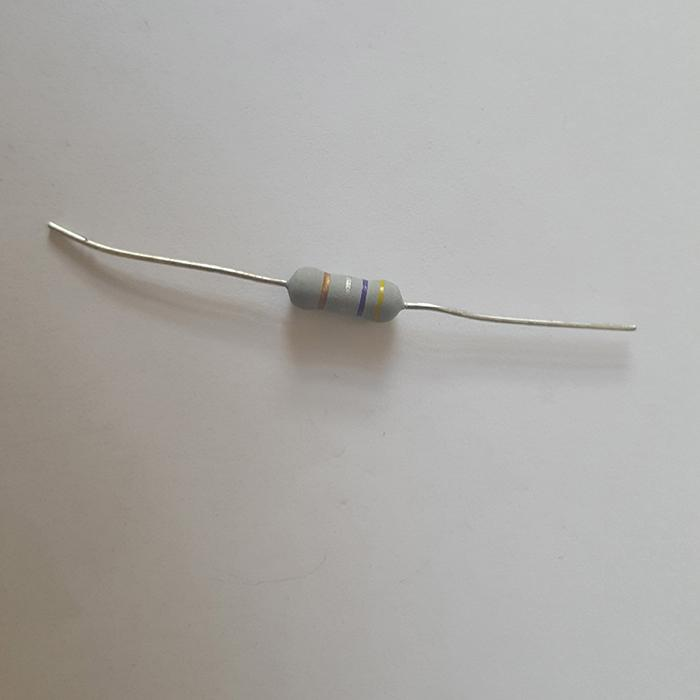resistor: (286, 266, 405, 323)
